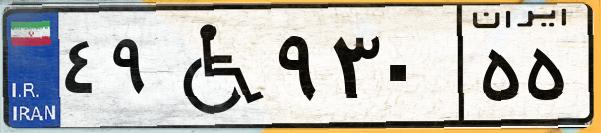0: (385, 28, 445, 110)
3: (330, 28, 385, 110)
4: (57, 26, 110, 100)
5: (475, 38, 525, 113), (525, 38, 570, 115)
9: (270, 28, 330, 110), (110, 28, 158, 98)
ژ (معلولین و جانبازان): (158, 12, 270, 120)
